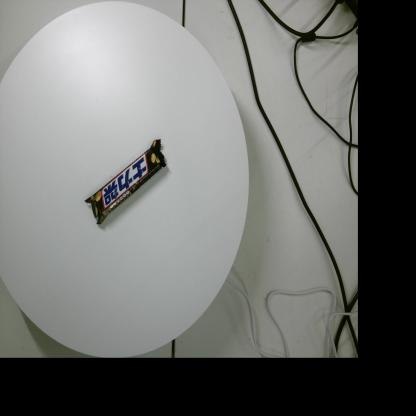Chocolate: (84, 139, 166, 224)
